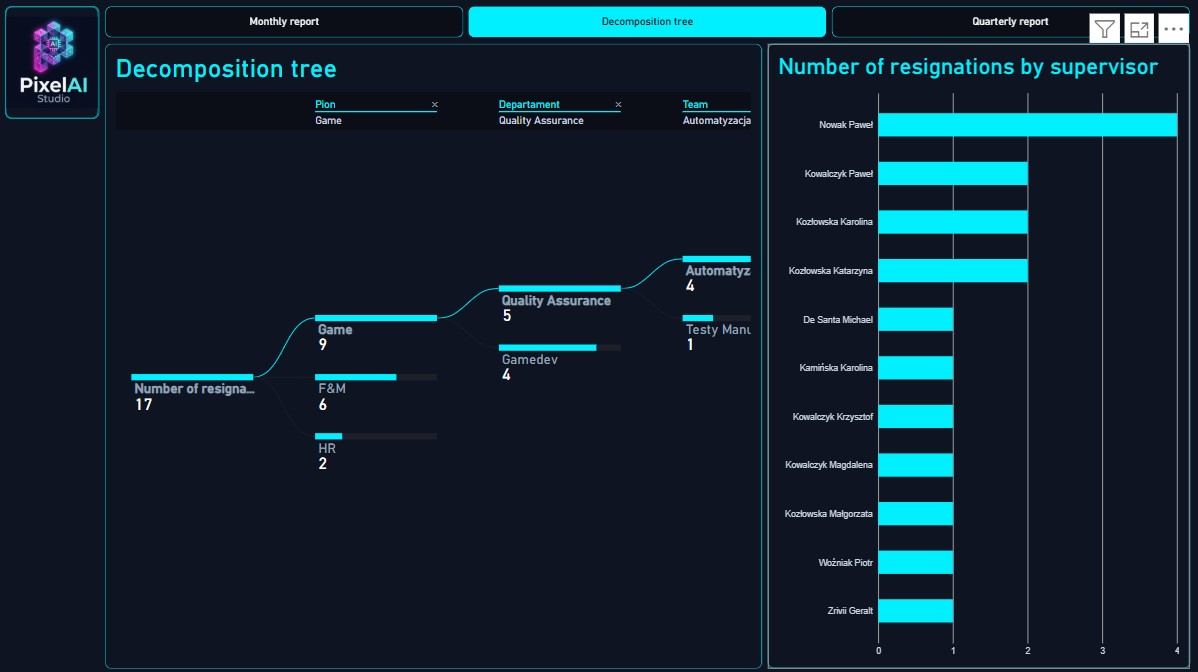

Layout of this report page (visuals, bound fields, positions):
{"tool":"powerbi","page":{"name":"Decomposition tree","canvas":[1920,1080],"ordinal":1},"visuals":[{"type":"image","box":[10.5,10.5,150,180],"z":0},{"type":"pageNavigator","box":[170,10.5,1735,50],"z":1000},{"type":"decompositionTreeVisual","title":"Decomposition tree","fields":{"Analyze":["Miary.Number of resignations"],"ExplainBy":["FctZatrudnienie.Pion","FctZatrudnienie.Departament","FctZatrudnienie.Team","DimPracownicy.Nazwisko i Imię"]},"box":[170,70,1050,1000],"z":2000},{"type":"barChart","title":"Number of resignations by supervisor","fields":{"Category":["FctZatrudnienie.Przełożony"],"Y":["Miary.Number of resignations"]},"box":[1229.7,70.1,676,999.6],"z":3000}]}

Visuals, with their boxes in screenshot pixels (x1, y1, x2, y2), scaled from the page's 1920x1080 canvas onto the 1198x672 screenshot:
image: crop(7, 7, 100, 119)
pageNavigator: crop(106, 7, 1189, 38)
"Decomposition tree" decompositionTreeVisual: crop(106, 44, 761, 666)
"Number of resignations by supervisor" barChart: crop(767, 44, 1189, 666)
